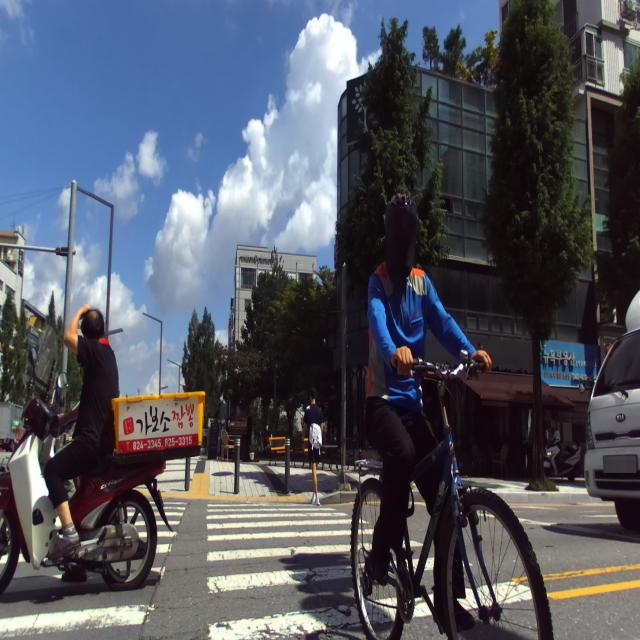횡단보도: (0, 499, 534, 640)
